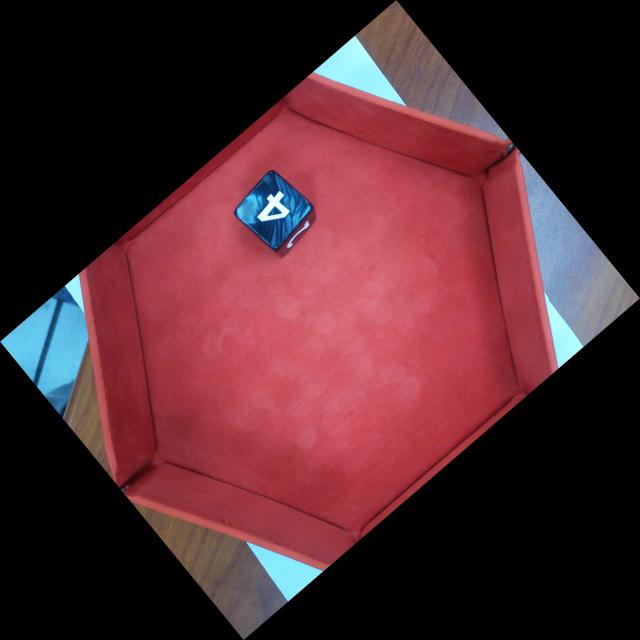dice: (232, 170, 316, 255)
